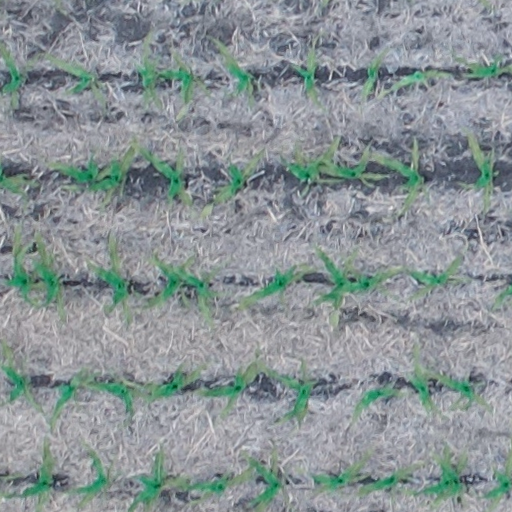planta: (199, 151, 263, 215), (197, 356, 263, 415), (87, 234, 131, 322), (51, 144, 133, 191), (372, 135, 421, 213), (160, 47, 211, 118), (409, 444, 467, 504), (171, 265, 228, 326), (133, 142, 188, 202), (239, 262, 312, 306), (458, 128, 497, 210), (2, 223, 40, 307), (45, 52, 104, 105), (310, 249, 350, 327), (332, 252, 400, 297), (264, 361, 312, 421), (146, 252, 196, 309), (130, 364, 204, 401), (32, 234, 65, 316), (213, 39, 253, 102), (321, 138, 378, 182), (288, 136, 341, 183), (20, 438, 54, 510), (67, 448, 109, 504), (434, 371, 491, 411), (49, 365, 87, 425), (407, 256, 460, 299), (244, 453, 283, 510), (310, 454, 367, 493), (356, 465, 418, 497), (171, 471, 246, 496), (350, 383, 403, 417), (407, 345, 434, 411), (84, 381, 135, 415), (135, 32, 159, 102), (292, 47, 319, 103), (389, 68, 451, 91), (359, 48, 387, 96)
